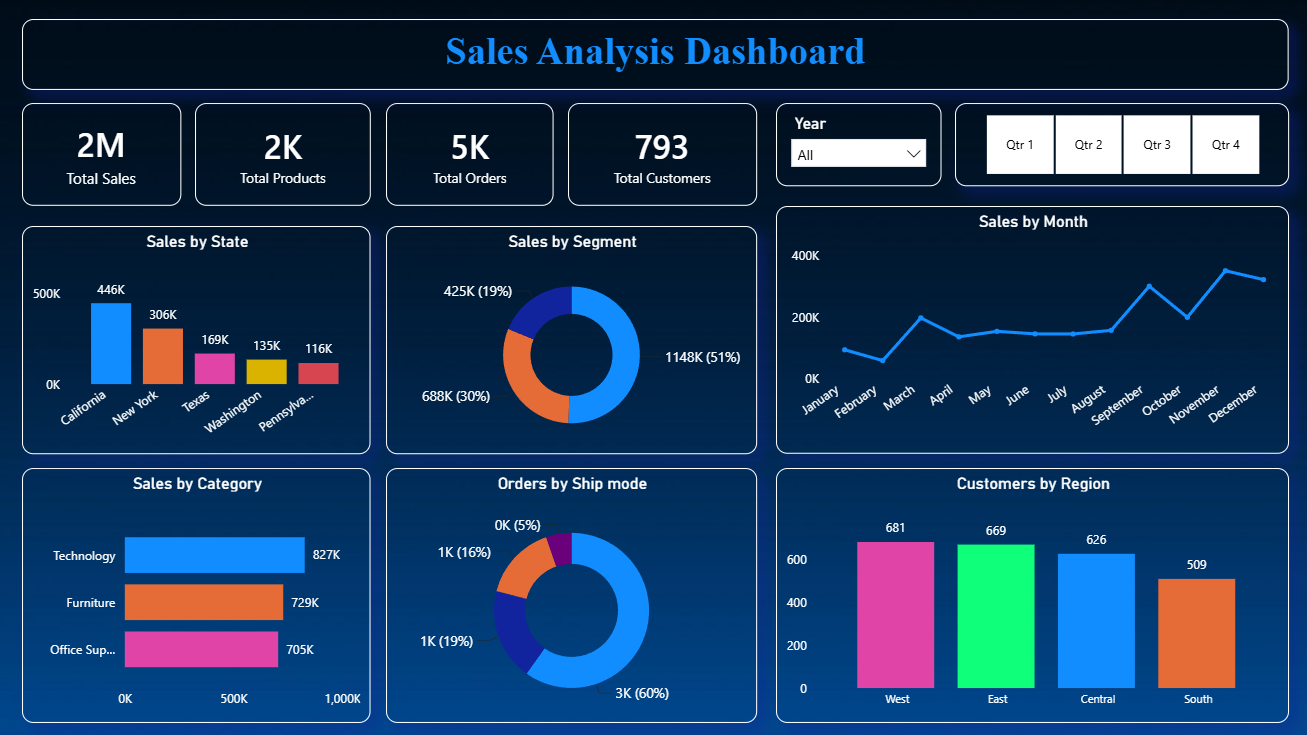

What the dashboard file says about the page in this screenshot:
{"tool":"powerbi","page":{"name":"Page 1","canvas":[1280,720],"ordinal":0},"visuals":[{"type":"lineChart","title":"Sales by Month","fields":{"Category":["sales.Order Date.Variation.Date Hierarchy.Month"],"Y":["sales.Total Sales"]},"box":[756.7,202.3,499,241.2],"z":0},{"type":"clusteredBarChart","title":"Sales by Category","fields":{"Category":["sales.Category"],"Y":["sales.Total Sales"]},"box":[23.3,457.1,339.5,248],"z":1000},{"type":"donutChart","title":"Sales by Segment","fields":{"Category":["sales.Segment"],"Y":["sales.Total Sales"]},"box":[377.4,221.8,360.9,221.8],"z":2000},{"type":"clusteredColumnChart","title":"Sales by State","fields":{"Y":["sales.Total Sales"],"Category":["sales.State"]},"box":[23.3,221.8,339.5,221.8],"z":3000},{"type":"cardVisual","fields":{"Data":["sales.Total Sales"]},"box":[23.3,102.1,154.7,100.2],"z":4000},{"type":"cardVisual","fields":{"Data":["sales.Total Products"]},"box":[191.6,102.1,171.2,100.2],"z":5000},{"type":"cardVisual","fields":{"Data":["sales.Total Orders"]},"box":[377.4,102.1,163.4,100.2],"z":6000},{"type":"cardVisual","fields":{"Data":["sales.Total Customers"]},"box":[554.4,102.1,183.8,100.2],"z":7000},{"type":"slicer","fields":{"Values":["sales.Order Date.Variation.Date Hierarchy.Year"]},"box":[756.7,102.1,161.5,80.7],"z":8000},{"type":"slicer","fields":{"Values":["sales.Order Date.Variation.Date Hierarchy.Quarter"]},"box":[930.8,102.1,324.9,80.7],"z":9000},{"type":"donutChart","title":"Orders by Ship mode","fields":{"Y":["sales.Total Orders"],"Category":["sales.Ship Mode"]},"box":[377.4,457.1,360.9,248],"z":10000},{"type":"clusteredColumnChart","title":"Customers by Region","fields":{"Category":["sales.Region"],"Y":["sales.Total Customers"]},"box":[756.7,457.1,499,248],"z":11000},{"type":"textbox","box":[23.3,20.4,1232.3,69.1],"z":12000}]}

Visuals, with their boxes in screenshot pixels (x1, y1, x2, y2), scaled from the page's 1280x720 canvas onto the 1307x735 screenshot:
"Sales by Month" lineChart: x1=773 y1=207 x2=1282 y2=453
"Sales by Category" clusteredBarChart: x1=24 y1=467 x2=370 y2=720
"Sales by Segment" donutChart: x1=385 y1=226 x2=754 y2=453
"Sales by State" clusteredColumnChart: x1=24 y1=226 x2=370 y2=453
cardVisual - sales.Total Sales: x1=24 y1=104 x2=182 y2=207
cardVisual - sales.Total Products: x1=196 y1=104 x2=370 y2=207
cardVisual - sales.Total Orders: x1=385 y1=104 x2=552 y2=207
cardVisual - sales.Total Customers: x1=566 y1=104 x2=754 y2=207
slicer - sales.Order Date.Variation.Date Hierarchy.Year: x1=773 y1=104 x2=938 y2=187
slicer - sales.Order Date.Variation.Date Hierarchy.Quarter: x1=950 y1=104 x2=1282 y2=187
"Orders by Ship mode" donutChart: x1=385 y1=467 x2=754 y2=720
"Customers by Region" clusteredColumnChart: x1=773 y1=467 x2=1282 y2=720
textbox: x1=24 y1=21 x2=1282 y2=91
